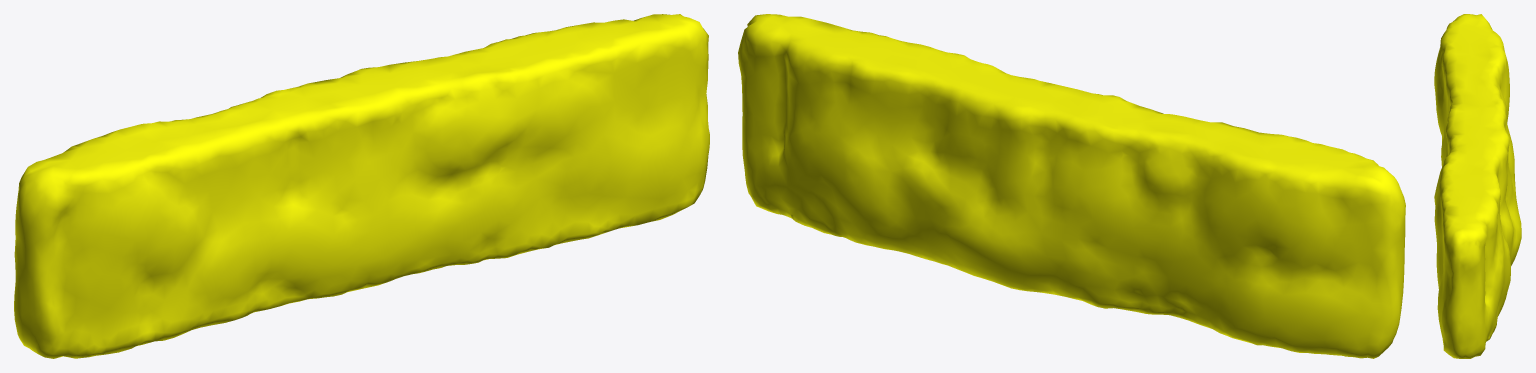
File: CaveA.glb
The picture shows the model from 3 angles, left to right: view 1: azimuth 30°, elevation 25°; view 2: azimuth 150°, elevation 25°; view 3: azimuth 270°, elevation 25°; orthographic projection. The views are drawn at different scales.
Parts seen in each view (by area): view 1: CaveWalls4A; view 2: CaveWalls4A; view 3: CaveWalls4A.
Part boxes in pixels (x1,y1,x2,y2): CaveWalls4A: [14, 14, 709, 358]; CaveWalls4A: [738, 14, 1405, 358]; CaveWalls4A: [1434, 14, 1521, 358].
Bounding box in the file's own units: 131 × 34.56 × 20.91.
Materials: 1 (1 with a texture image).
